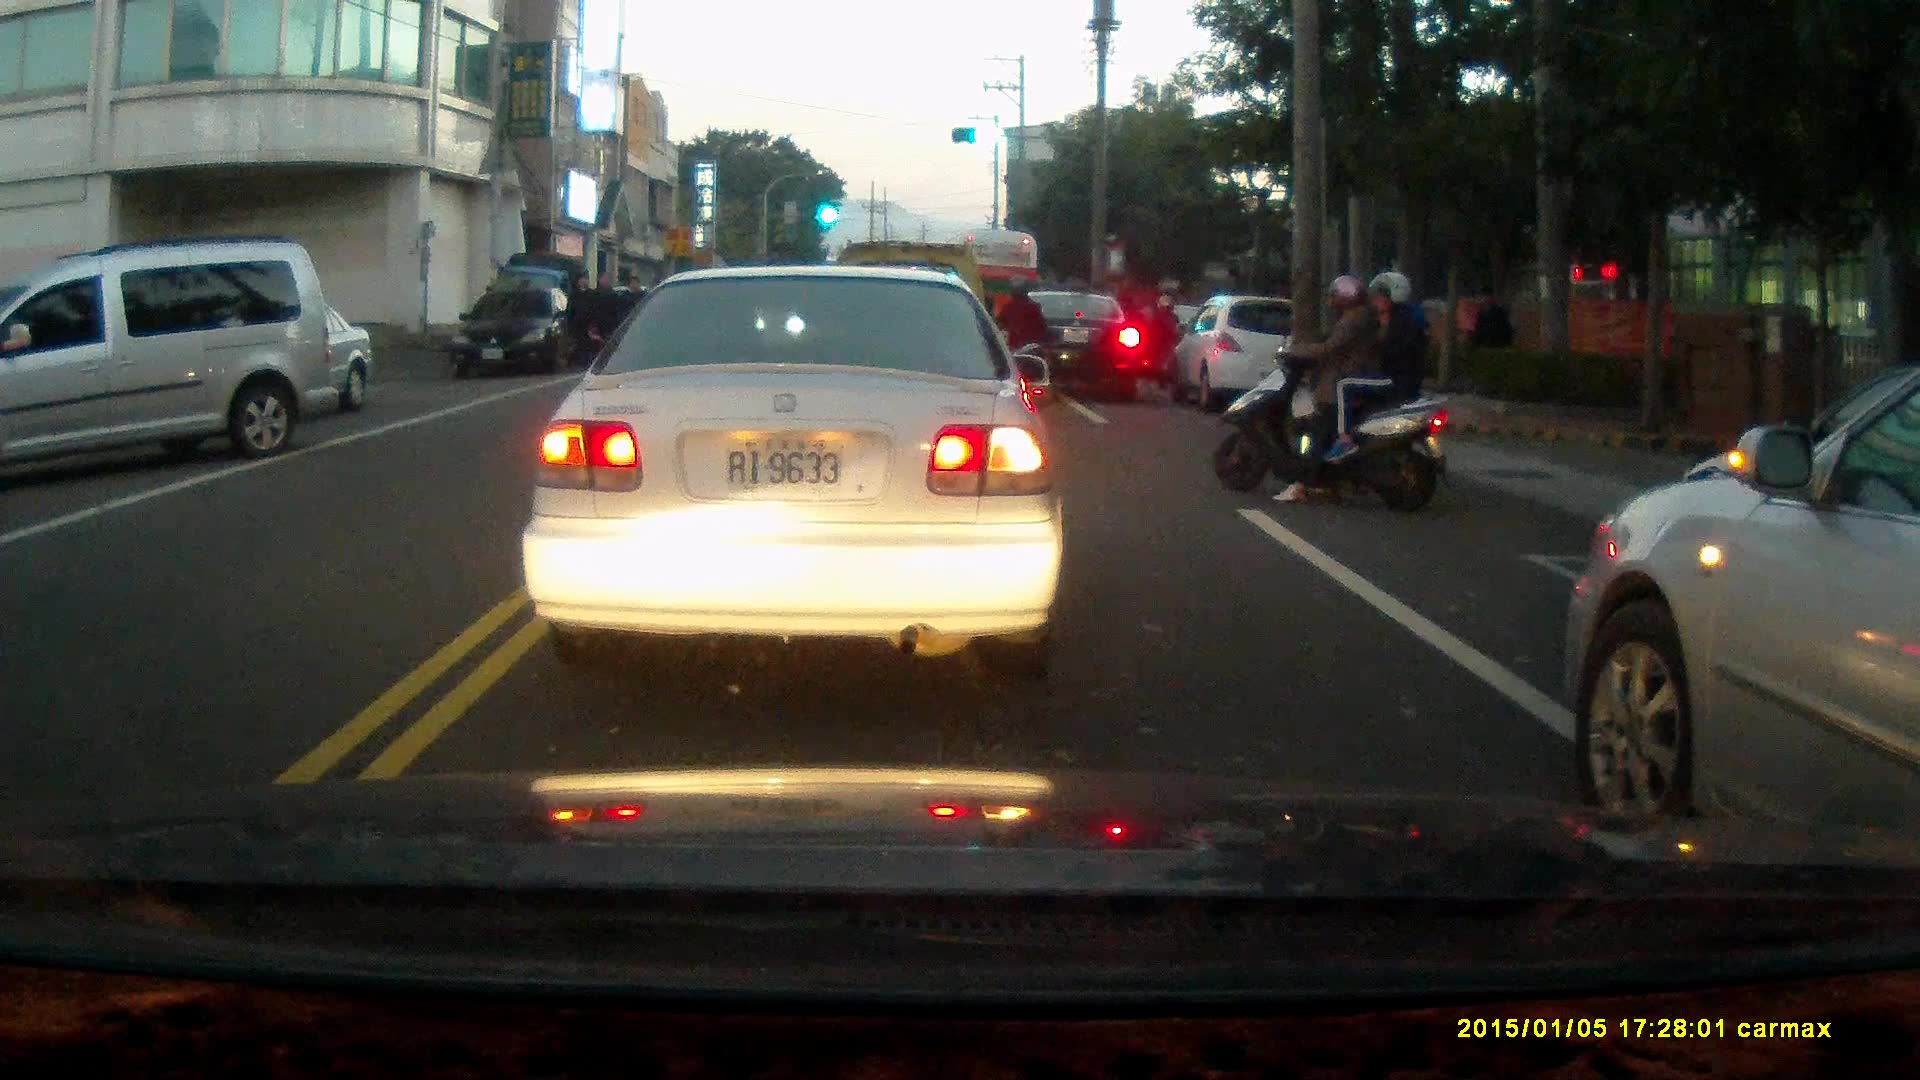pedestrian: (1465, 281, 1511, 381), (562, 271, 599, 373), (580, 273, 612, 375)
rider: (1209, 269, 1451, 519), (985, 269, 1050, 413), (1147, 291, 1184, 390)
vehicle: (521, 259, 1070, 685), (1565, 362, 1919, 852), (1, 243, 338, 481), (1178, 295, 1327, 404), (1007, 290, 1144, 401), (449, 284, 586, 381)
